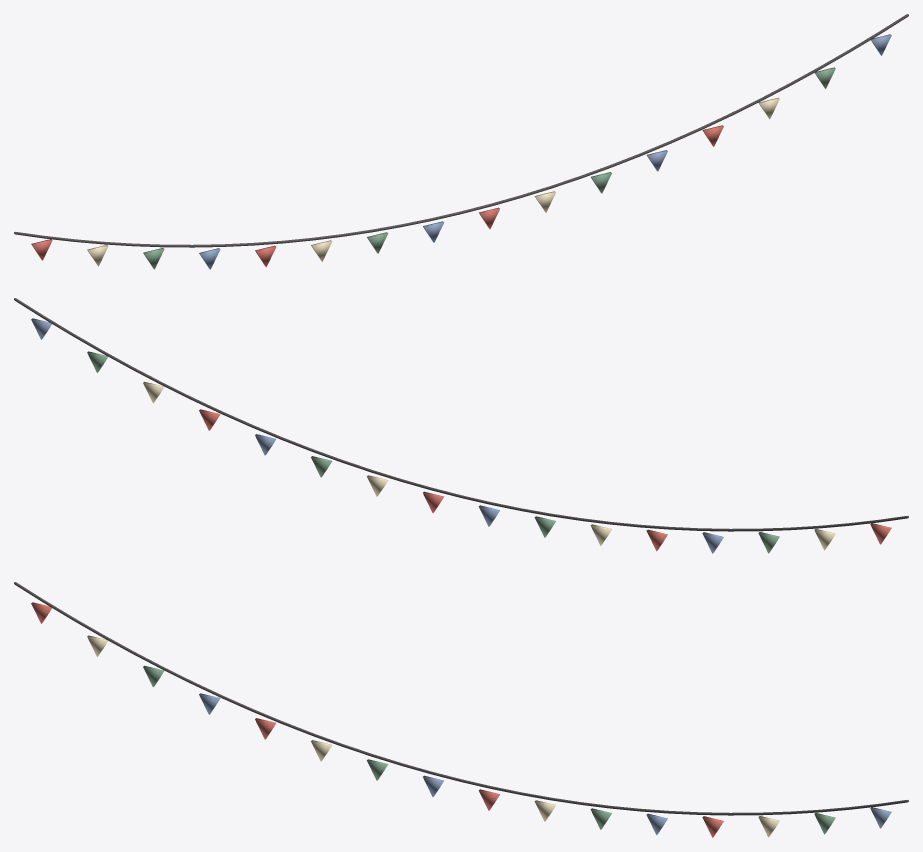
Rendered from festone_10m.glb.
The picture shows the model from 3 angles, top to bottom: view 1: azimuth 30°, elevation 25°; view 2: azimuth 150°, elevation 25°; view 3: azimuth 330°, elevation 25°; orthographic projection.
Parts seen in each view (by area): view 1: festone_cavo; view 2: festone_cavo; view 3: festone_cavo.
Boxes of the visible parts, x1=… form: festone_cavo: x1=14, y1=14, x2=908, y2=247; festone_cavo: x1=14, y1=298, x2=908, y2=531; festone_cavo: x1=14, y1=582, x2=908, y2=815.
Bounding box in the file's own units: 10 × 1.2 × 0.03.
